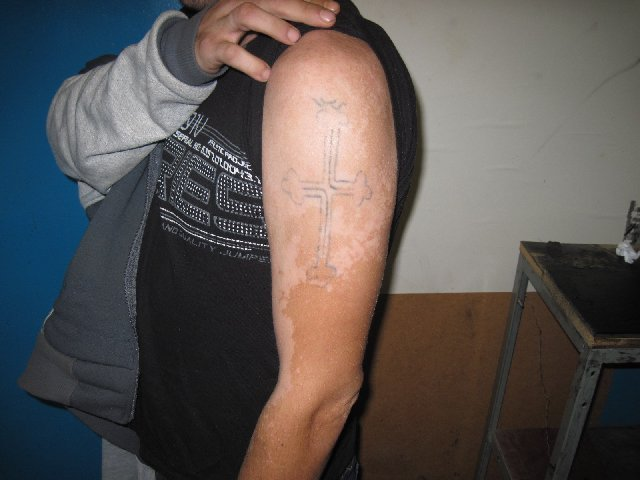tatu9_krest: (280, 95, 381, 291)
